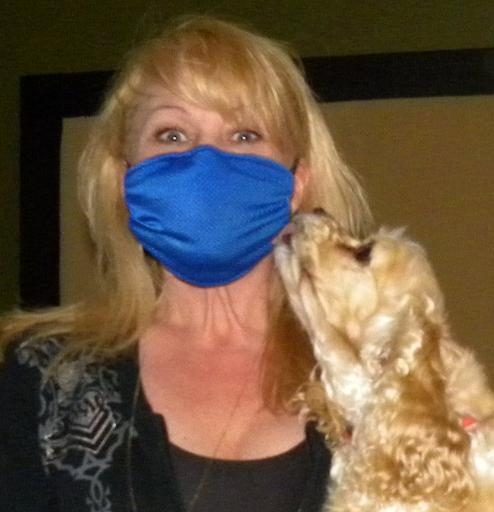OK: (119, 95, 292, 267)
